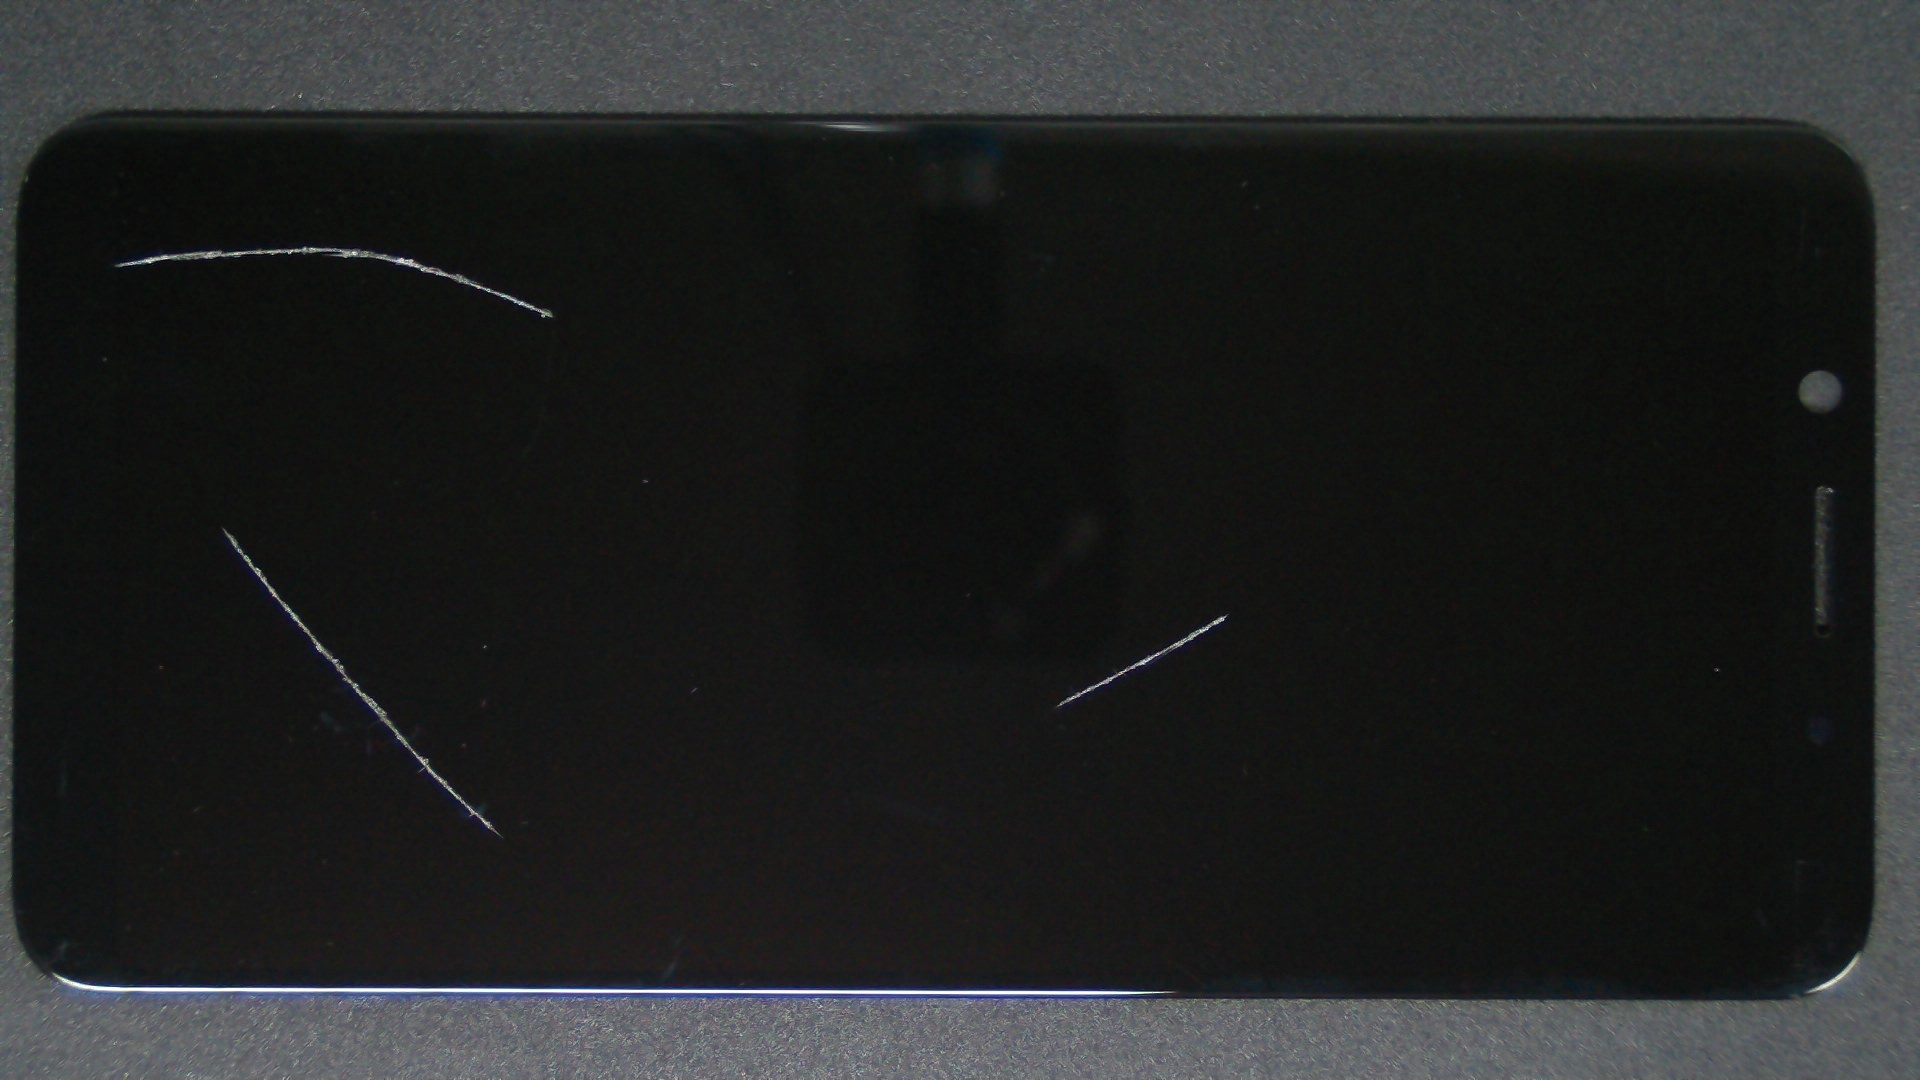oil: (615, 306, 1841, 920), (111, 262, 331, 789), (153, 123, 458, 368)
